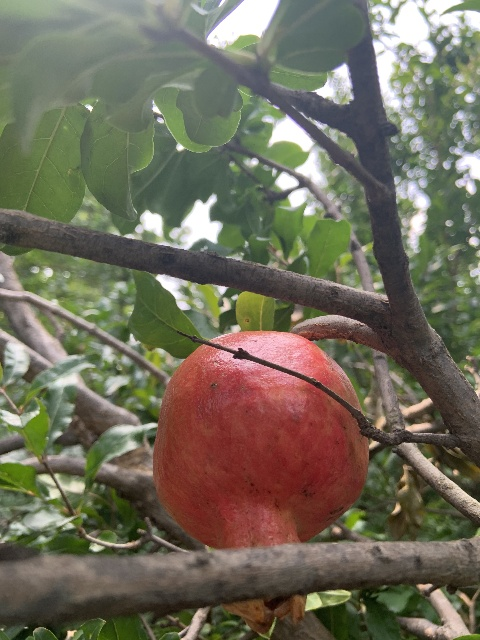ripe: (153, 330, 366, 633)
